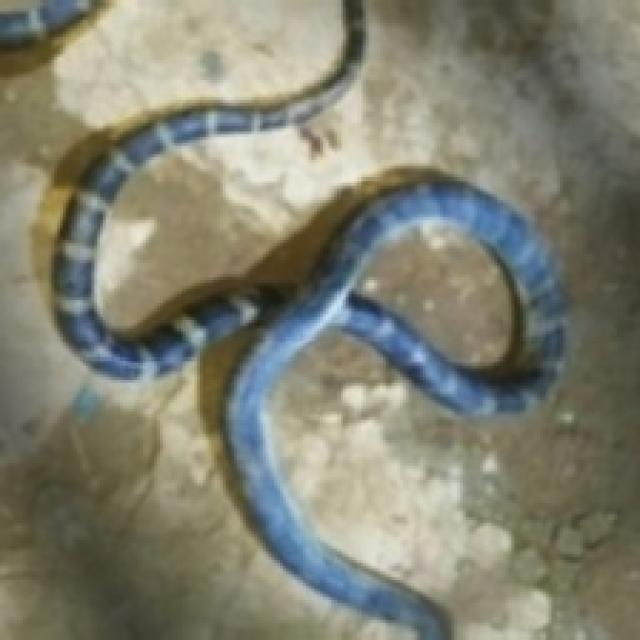king cobra: (0, 3, 409, 637), (180, 3, 571, 266), (400, 537, 577, 637)
